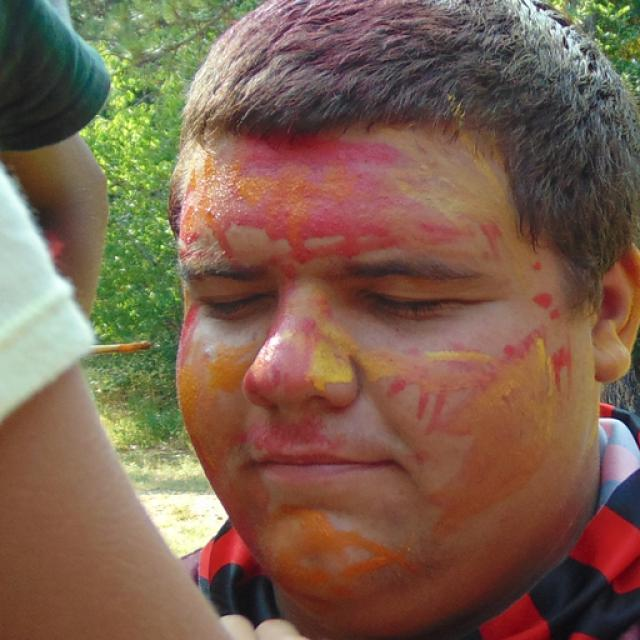sad: (173, 110, 566, 601)
